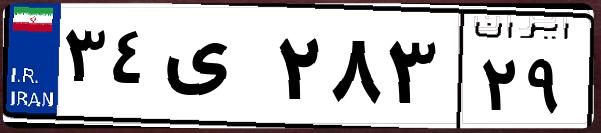2: (270, 28, 330, 110), (475, 38, 525, 113)
3: (385, 28, 445, 110), (57, 26, 110, 100)
4: (110, 28, 158, 98)
8: (330, 28, 385, 110)
9: (525, 38, 570, 115)
ی: (158, 20, 270, 120)
